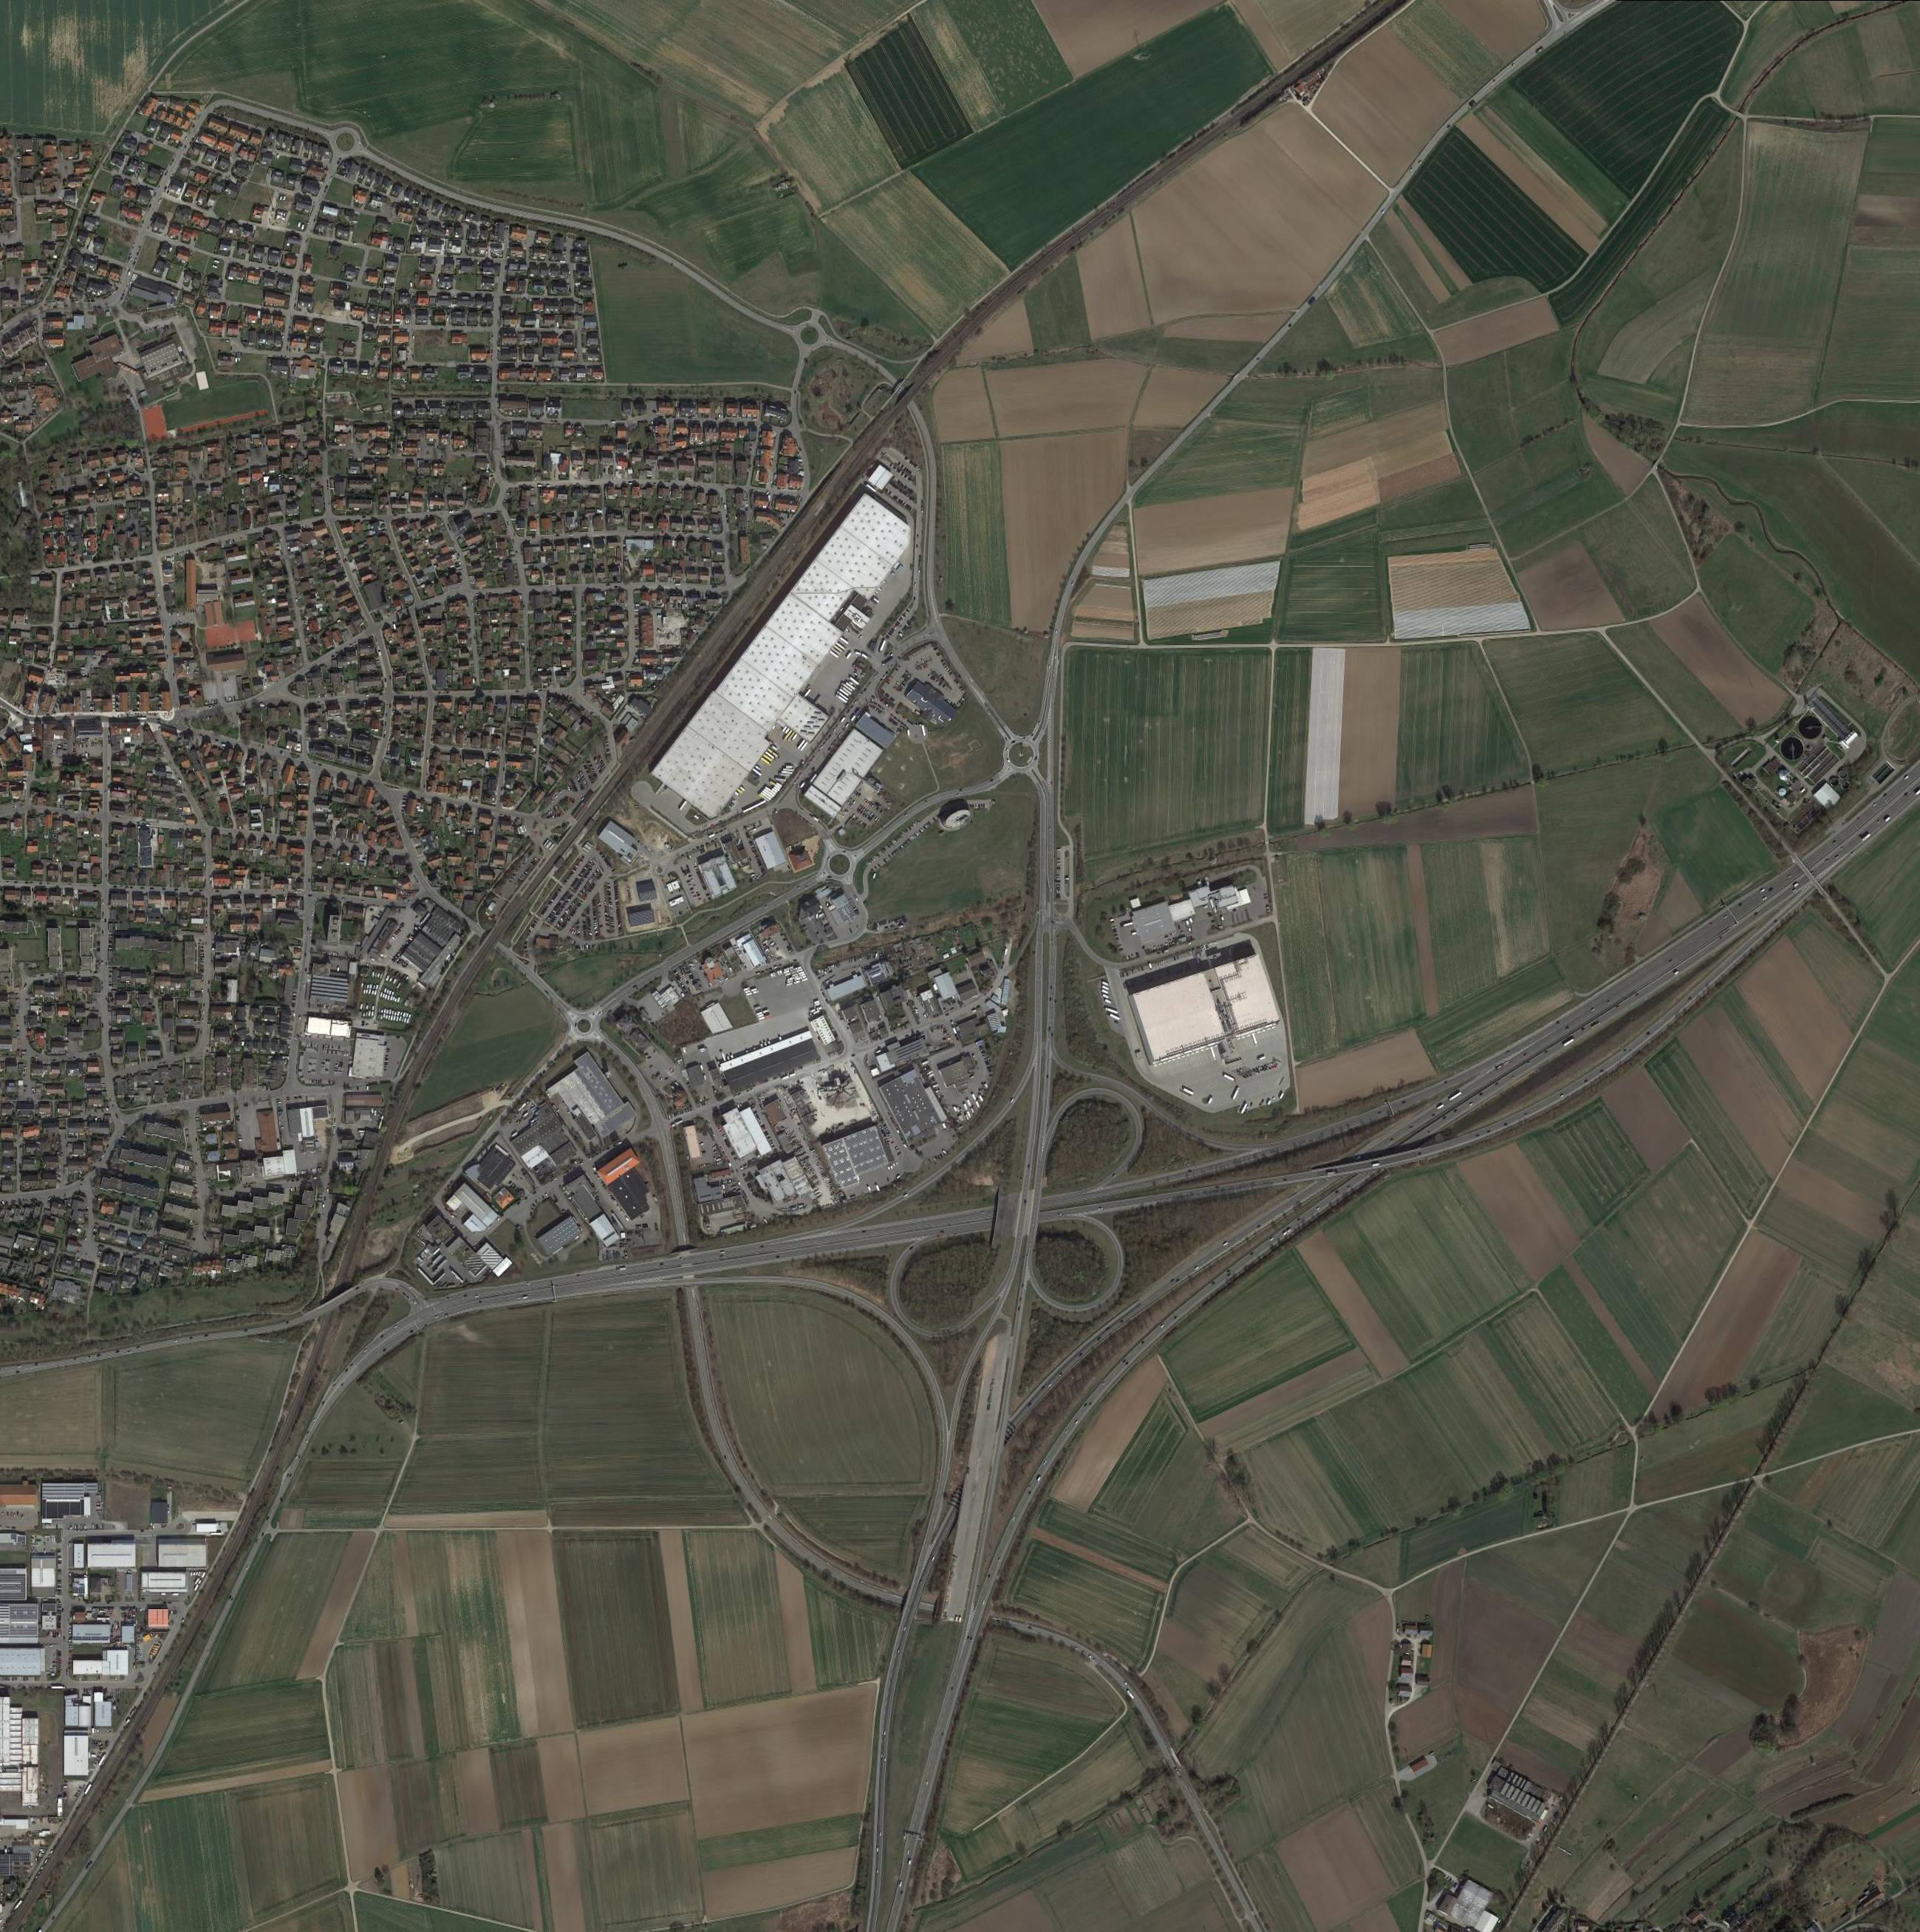roundabout: (1004, 737, 1041, 772), (823, 851, 860, 881), (793, 318, 825, 350), (329, 127, 360, 156), (571, 1014, 600, 1041)
